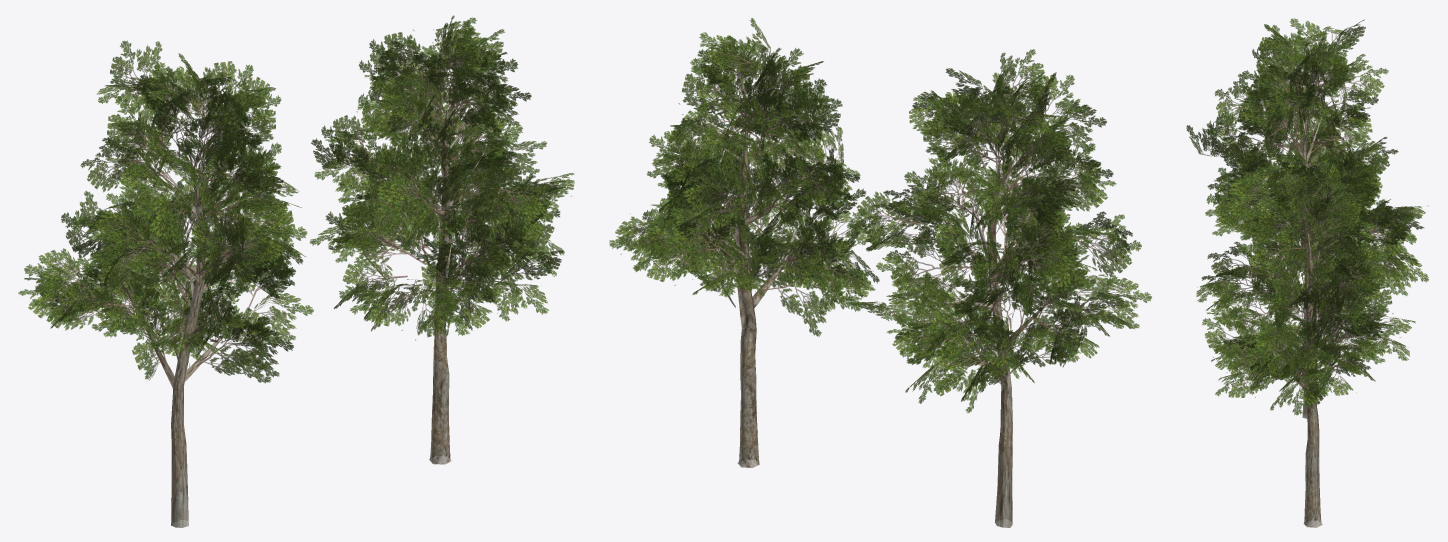
The model's file is arboles.glb.
The picture shows the model from 3 angles, left to right: view 1: azimuth 30°, elevation 25°; view 2: azimuth 150°, elevation 25°; view 3: azimuth 270°, elevation 25°; orthographic projection. The views are drawn at different scales.
Parts seen in each view (by area): view 1: Tree 1, Tree 2; view 2: Tree 1, Tree 2; view 3: Tree 2, Tree 1.
Boxes of the visible parts, <box> form: Tree 1: <box>18,40,313,527</box>; Tree 2: <box>310,15,574,464</box>; Tree 1: <box>845,49,1151,527</box>; Tree 2: <box>609,18,879,467</box>; Tree 2: <box>1196,152,1417,527</box>; Tree 1: <box>1186,18,1428,418</box>.
Bounding box in the file's own units: 10.73 × 8.99 × 5.22.
Materials: 1 (1 with a texture image).
